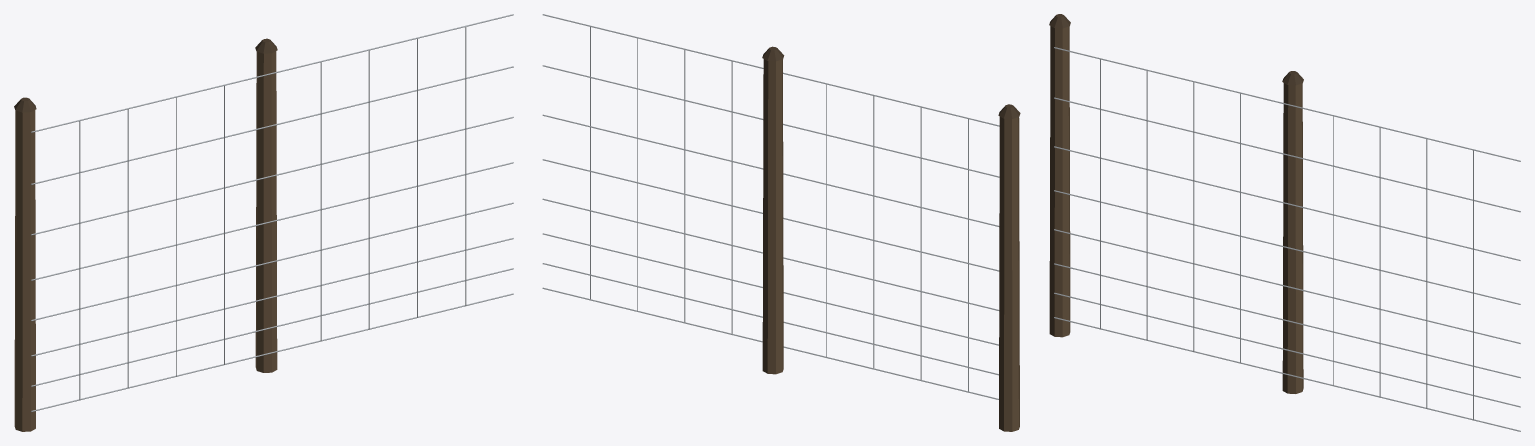
The model's file is Prop_Valley_ExclosureFence.glb.
3 views of the same model, side by side, from view 1: azimuth 30°, elevation 25°; view 2: azimuth 150°, elevation 25°; view 3: azimuth 330°, elevation 25° (orthographic). The views are drawn at different scales.
Parts seen in each view (by area): view 1: Prop_Valley_ExclosureFence; view 2: Prop_Valley_ExclosureFence; view 3: Prop_Valley_ExclosureFence.
Part boxes in pixels (left/top/right/bottom): Prop_Valley_ExclosureFence: left=14, top=14, right=513, bottom=431; Prop_Valley_ExclosureFence: left=542, top=14, right=1020, bottom=431; Prop_Valley_ExclosureFence: left=1049, top=14, right=1520, bottom=431.
Size of what is drawn, in the model's own units: 3.06 by 1.95 by 0.134.
